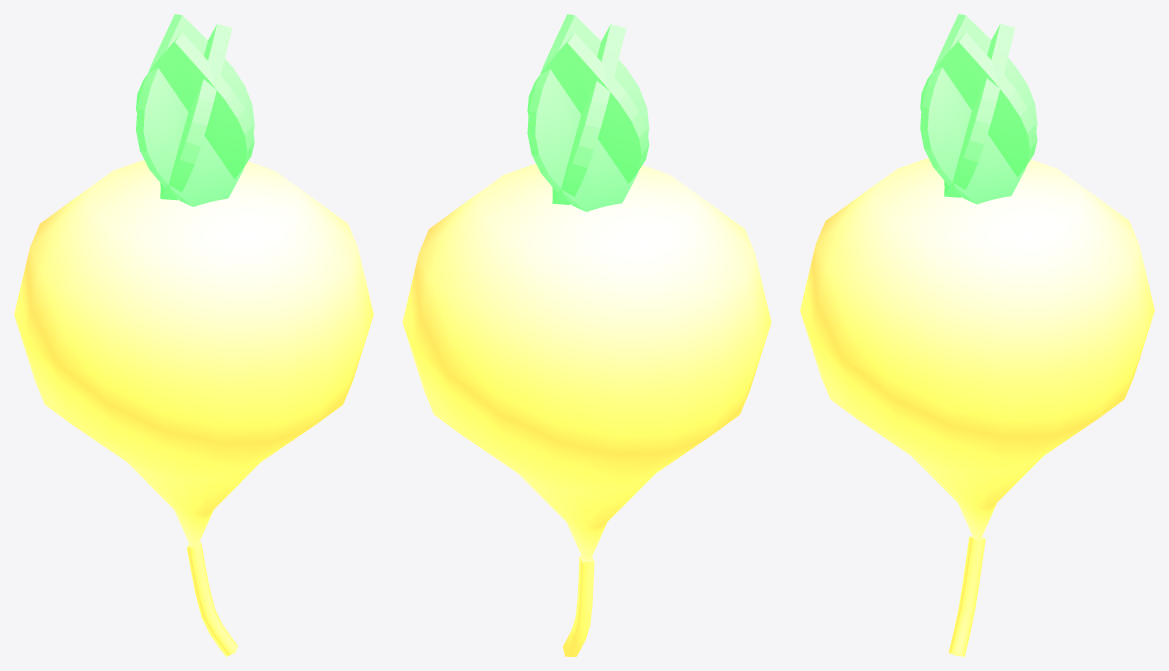
File: f506ceda-440f-4d64-bf58-93cbea929977.glb
The picture shows the model from 3 angles, left to right: view 1: azimuth 30°, elevation 25°; view 2: azimuth 150°, elevation 25°; view 3: azimuth 270°, elevation 25°; orthographic projection. The views are drawn at different scales.
Parts seen in each view (by area): view 1: Body; view 2: Body; view 3: Body.
Boxes of the visible parts, x1,y1,x2,y2 form: Body: (14, 14, 373, 656); Body: (402, 14, 771, 656); Body: (800, 14, 1154, 656).
Bounding box in the file's own units: 0.3348 × 0.6572 × 0.34.
